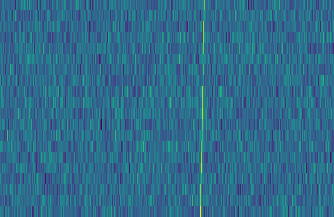signal: (196, 0, 209, 217)
